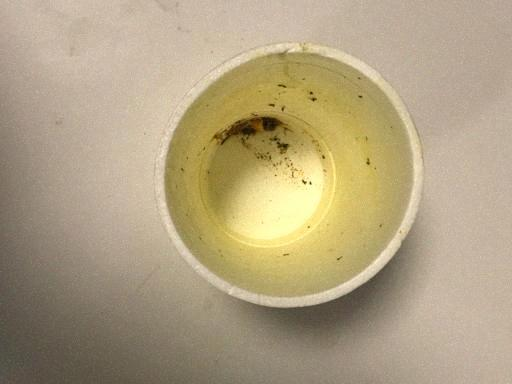metal: (164, 42, 422, 310)
